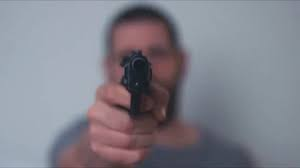gun: (114, 49, 165, 161)
